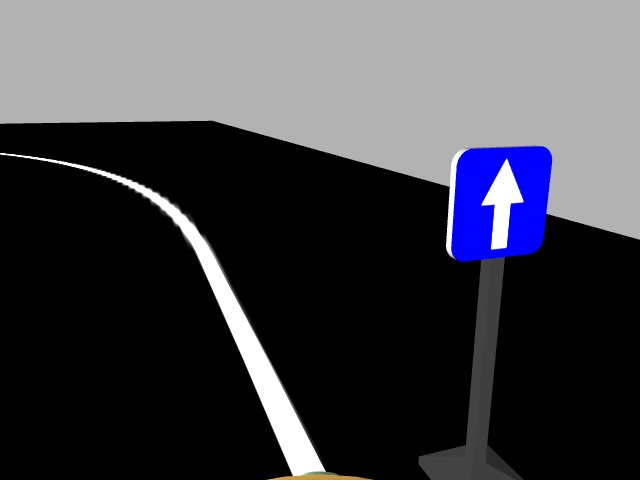OneWay: (447, 147, 549, 261)
